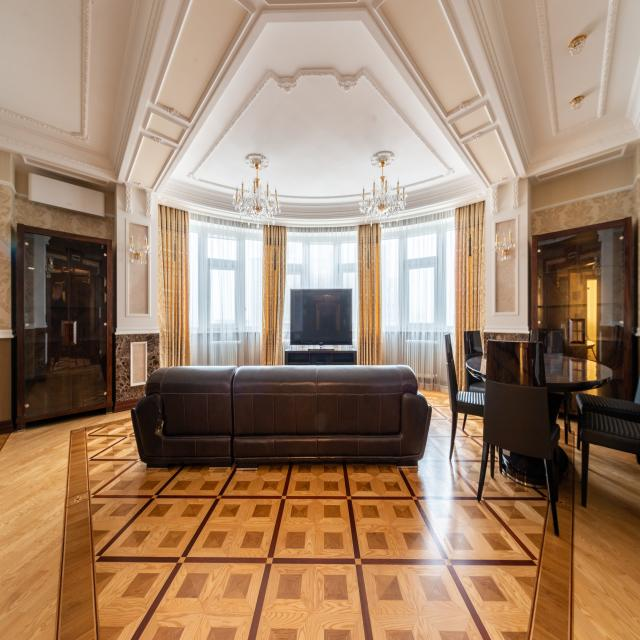floor: (0, 388, 640, 640)
wall: (531, 177, 640, 327), (16, 196, 115, 327), (485, 178, 528, 328), (117, 183, 158, 328), (531, 156, 634, 210), (16, 166, 114, 218), (493, 214, 519, 316), (125, 218, 151, 317), (0, 150, 12, 331), (495, 219, 516, 312), (128, 250, 148, 314), (11, 153, 17, 331), (0, 339, 12, 423), (527, 178, 531, 328), (128, 223, 148, 252), (11, 336, 17, 420), (114, 184, 117, 328), (633, 144, 640, 184)
